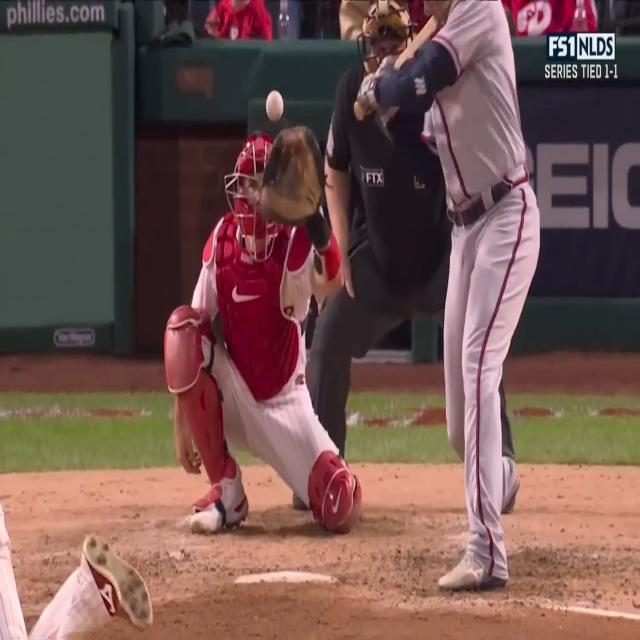baseball: (263, 89, 287, 125)
